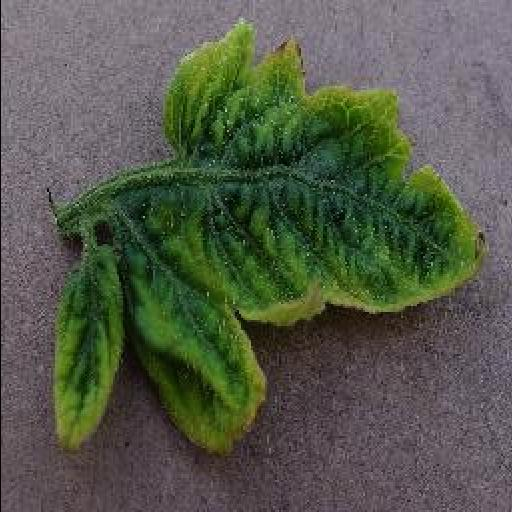disease_tomato: (50, 24, 486, 454)
